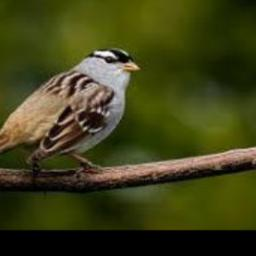Sparrow: (0, 47, 141, 184)
